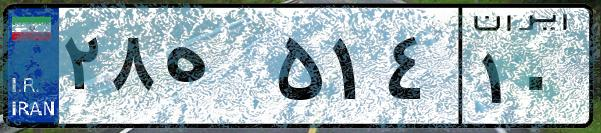0: (525, 38, 570, 115)
1: (330, 28, 385, 110), (475, 38, 525, 113)
2: (57, 26, 110, 100)
4: (385, 28, 445, 110)
5: (270, 28, 330, 110)
8: (110, 28, 158, 98)
ه: (158, 20, 270, 120)
